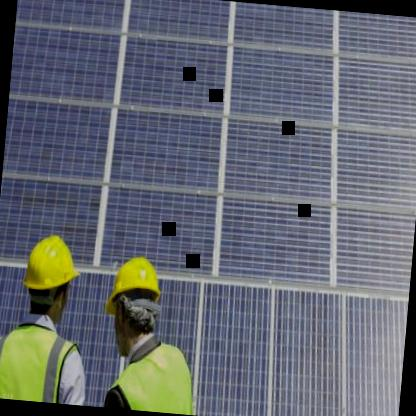helmet: (100, 244, 170, 352), (13, 223, 83, 325)
